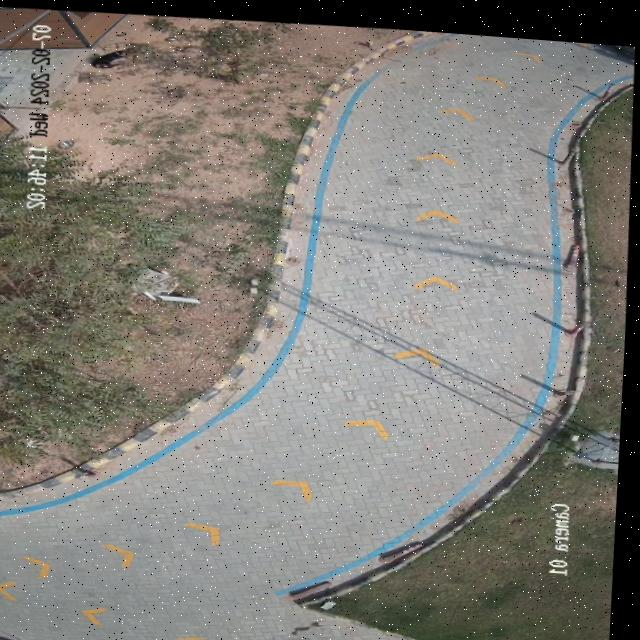No Car: (0, 6, 634, 640)
